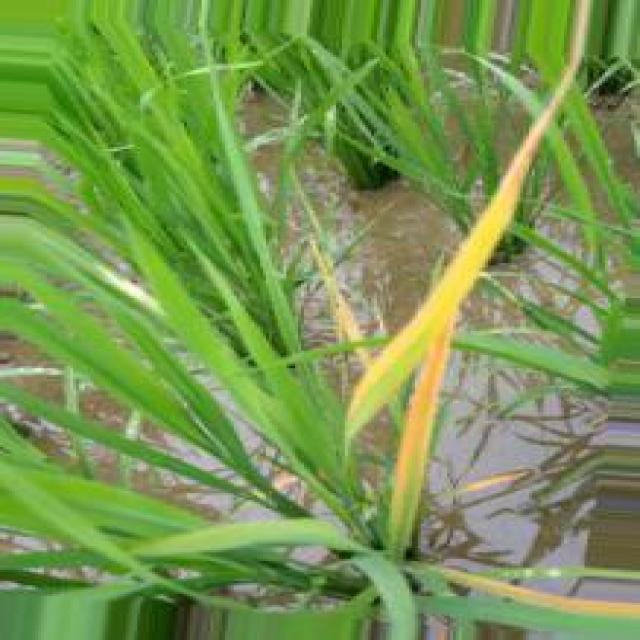Rice Tungro: (352, 118, 550, 438), (387, 316, 454, 554), (440, 569, 638, 617), (311, 240, 363, 342), (462, 472, 528, 492), (357, 348, 372, 366)
